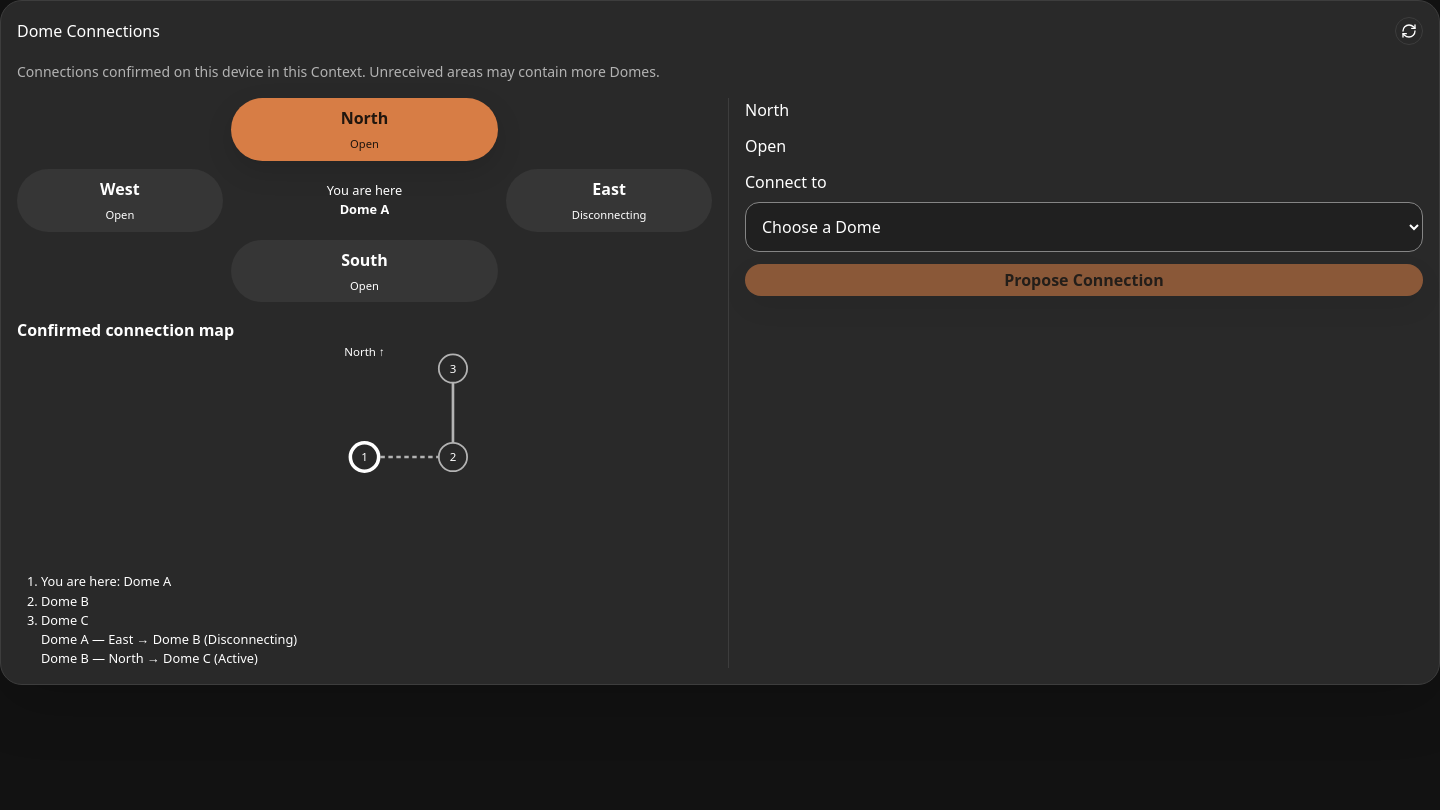
Test: DomeConnectionPanel › a draining record overrides an older ready passage result
Step 1. Click the button "East Disconnecting" → (609, 200), box [506,169,712,232]
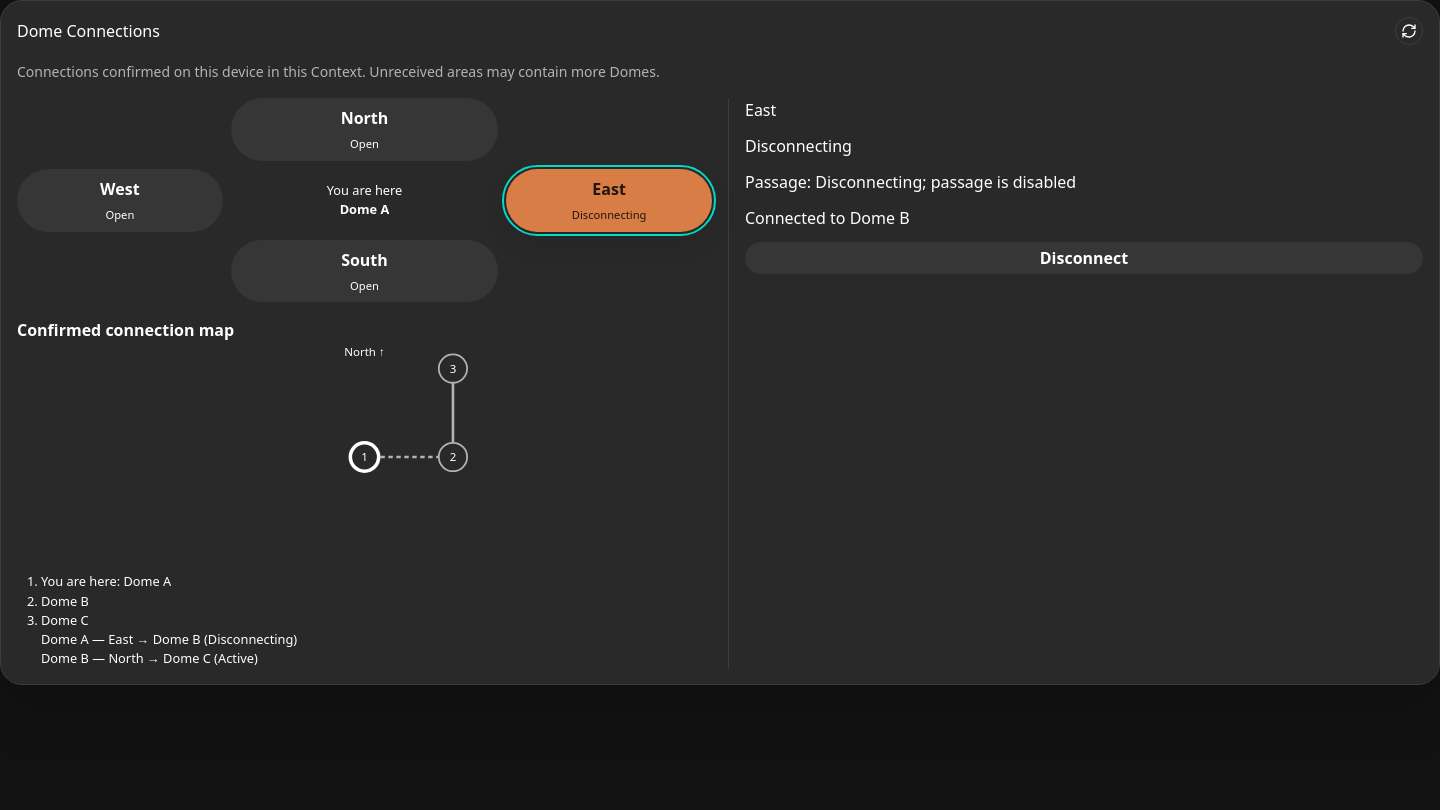
Now the text "Passage: Disconnecting; passage is disabled" is shown, box [745,171,1076,193]
